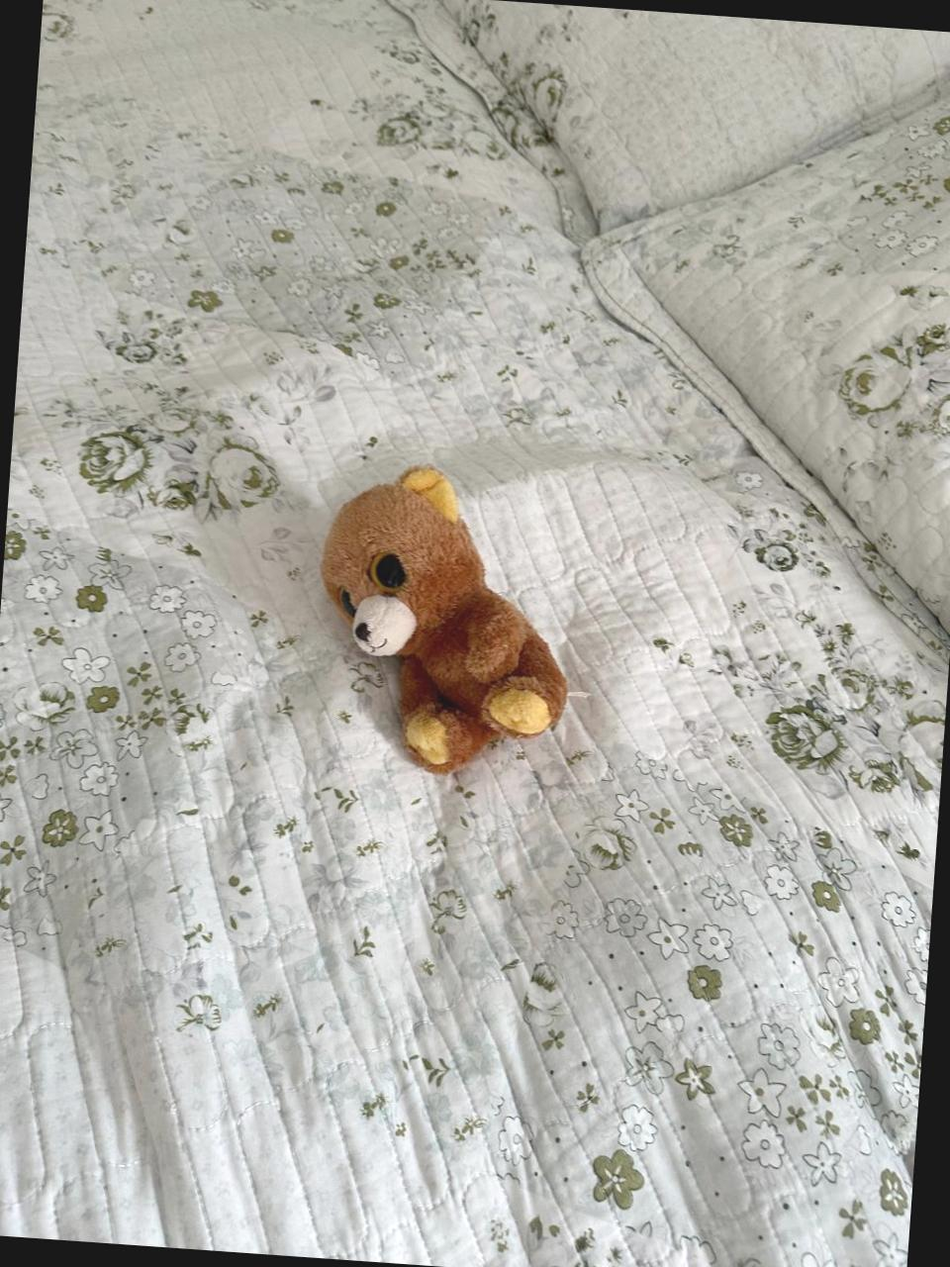peluche_sebastian: (303, 457, 595, 770)
